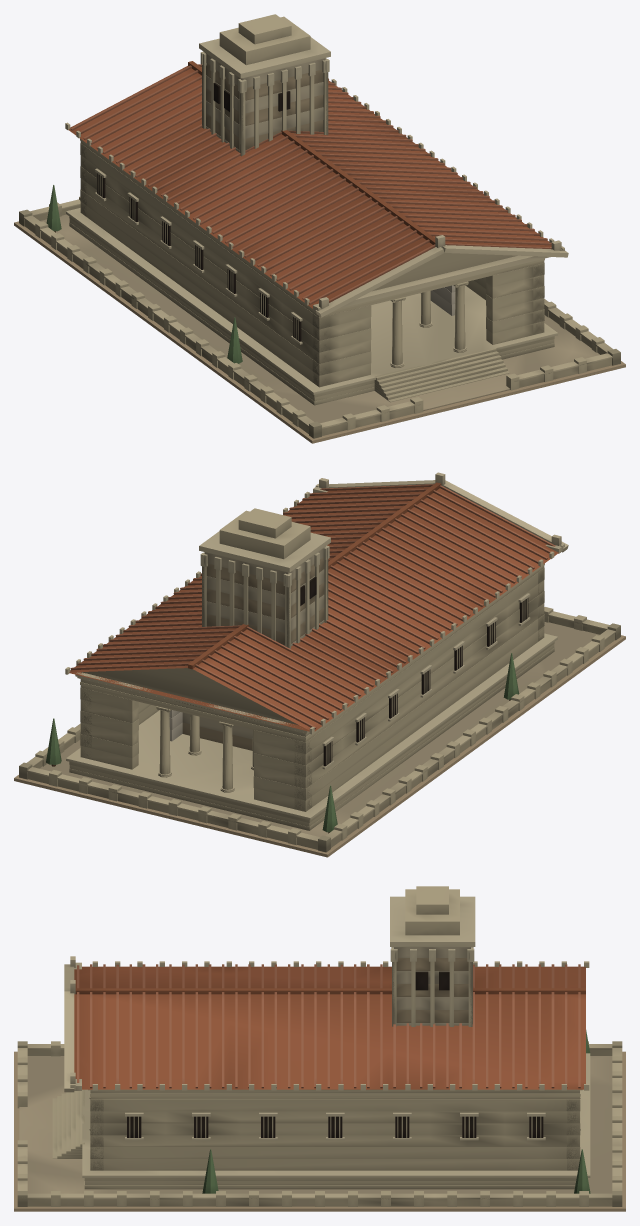
The model's file is jandial.glb.
3 views of the same model, one above another, from view 1: azimuth 30°, elevation 25°; view 2: azimuth 150°, elevation 25°; view 3: azimuth 270°, elevation 25° (orthographic). The views are drawn at different scales.
Visible parts, largest first — view 1: p2_roof and tower, p0_plinth, p1_walls and columns; view 2: p2_roof and tower, p0_plinth, p1_walls and columns; view 3: p2_roof and tower, p0_plinth, p1_walls and columns.
Part boxes in pixels (x1,y1,x2,y2): p2_roof and tower: [65, 14, 568, 317]; p0_plinth: [14, 185, 625, 443]; p1_walls and columns: [80, 143, 544, 387]; p2_roof and tower: [65, 472, 568, 742]; p0_plinth: [14, 607, 625, 857]; p1_walls and columns: [80, 568, 544, 811]; p2_roof and tower: [64, 886, 589, 1099]; p0_plinth: [14, 1030, 625, 1211]; p1_walls and columns: [89, 1097, 580, 1170].
Bounding box in the file's own units: 34 × 24 × 56.
